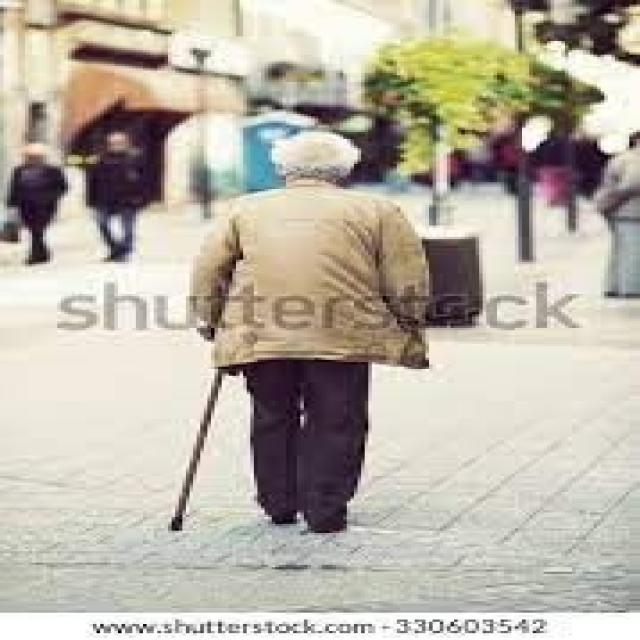idoso em pe: (166, 121, 454, 528)
